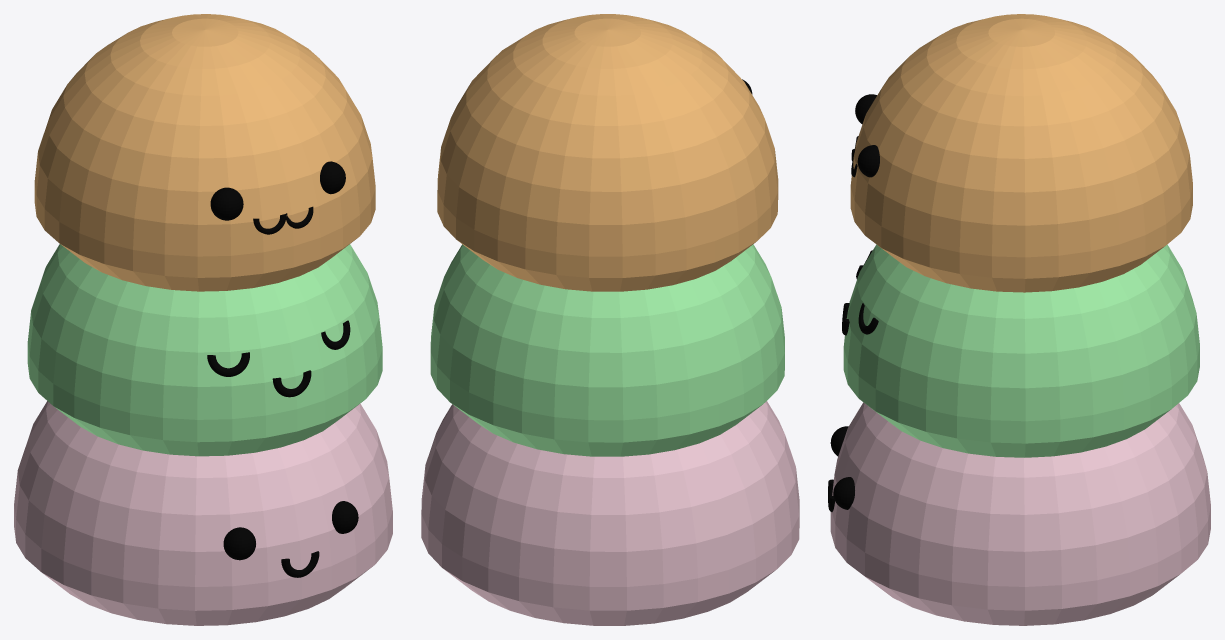
File: mochi.glb
The picture shows the model from 3 angles, left to right: view 1: azimuth 30°, elevation 25°; view 2: azimuth 150°, elevation 25°; view 3: azimuth 270°, elevation 25°; orthographic projection.
Parts seen in each view (by area): view 1: mochi; view 2: mochi; view 3: mochi.
Boxes of the visible parts, box(x1,y1,x2,y2) form: mochi: box(14, 14, 392, 625); mochi: box(421, 14, 799, 625); mochi: box(828, 14, 1210, 625).
Bounding box in the file's own units: 2 × 3.08 × 2.01.
